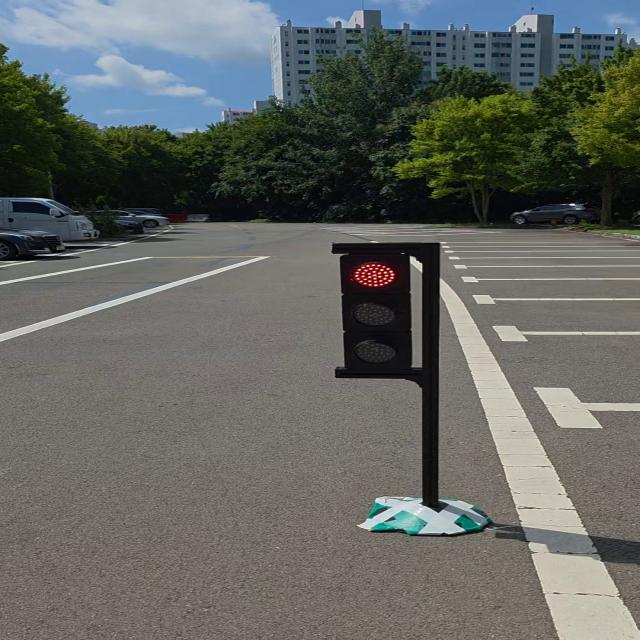red: (330, 247, 424, 378)
